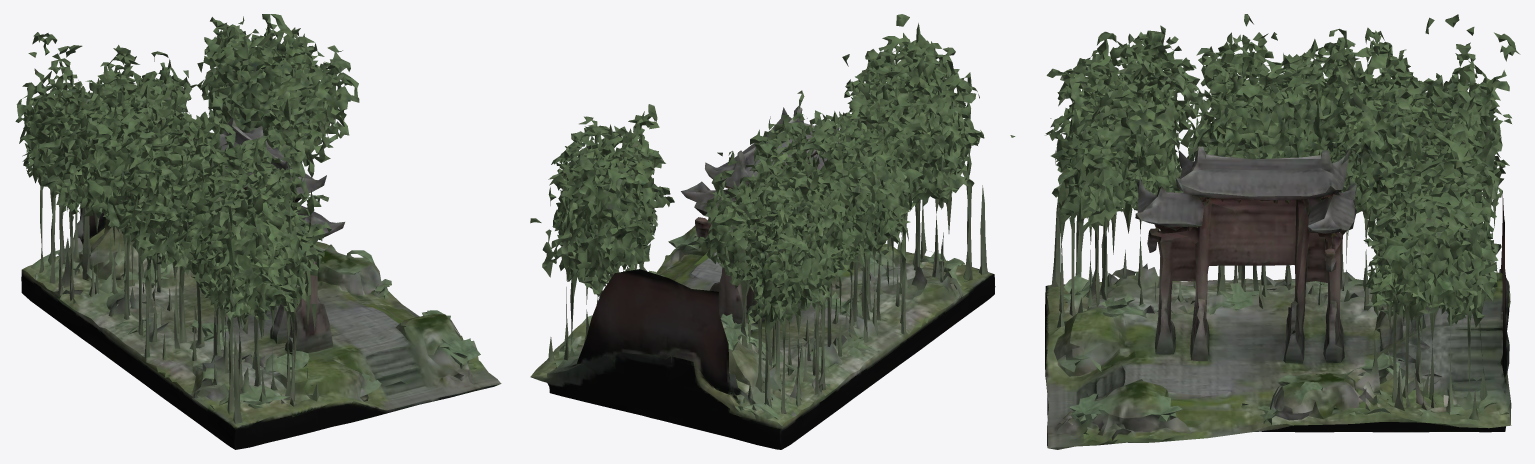
The model's file is bamboo_diorama.glb.
The picture shows the model from 3 angles, left to right: view 1: azimuth 30°, elevation 25°; view 2: azimuth 150°, elevation 25°; view 3: azimuth 270°, elevation 25°; orthographic projection. The views are drawn at different scales.
Parts seen in each view (by area): view 1: geometry_0; view 2: geometry_0; view 3: geometry_0.
Boxes of the visible parts, x1=… form: geometry_0: x1=15, y1=14, x2=501, y2=449; geometry_0: x1=530, y1=14, x2=1015, y2=449; geometry_0: x1=1045, y1=14, x2=1520, y2=449.
Size of the model in its own units: 0.6 by 0.5492 by 0.7506.
1 material, 1 textured.
